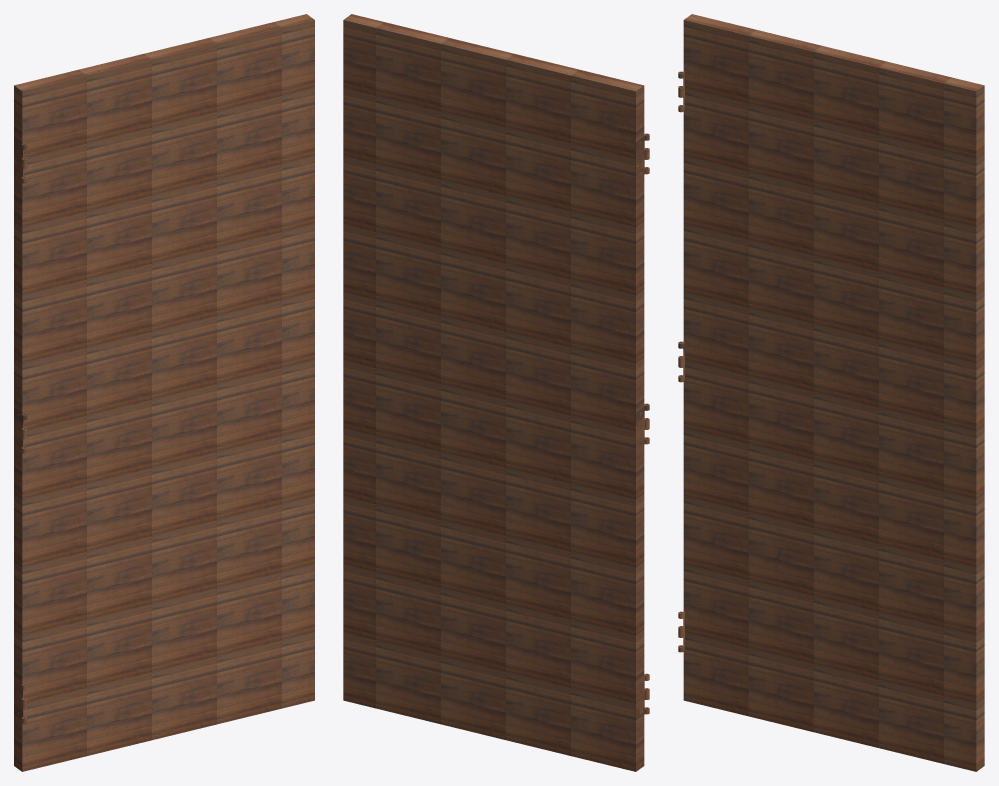
File: door.dae
3 views of the same model, side by side, from view 1: azimuth 30°, elevation 25°; view 2: azimuth 150°, elevation 25°; view 3: azimuth 330°, elevation 25° (orthographic).
Parts seen in each view (by area): view 1: skp2317; view 2: skp2317; view 3: skp2317.
Boxes of the visible parts, x1=… form: skp2317: x1=14, y1=14, x2=314, y2=771; skp2317: x1=343, y1=14, x2=644, y2=771; skp2317: x1=683, y1=14, x2=984, y2=771.
Size of the model in its own units: 36.33 by 2.55 by 80.
2 materials, 2 textured.
